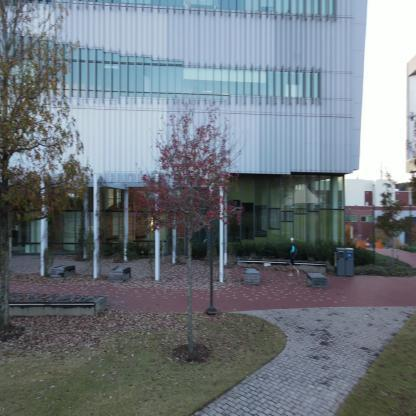Hunt Library: (0, 1, 384, 308)
